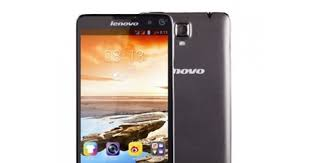lenovo: (72, 8, 179, 163)
